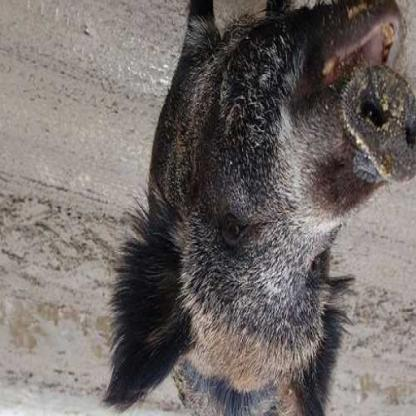boar: (100, 1, 415, 416)
